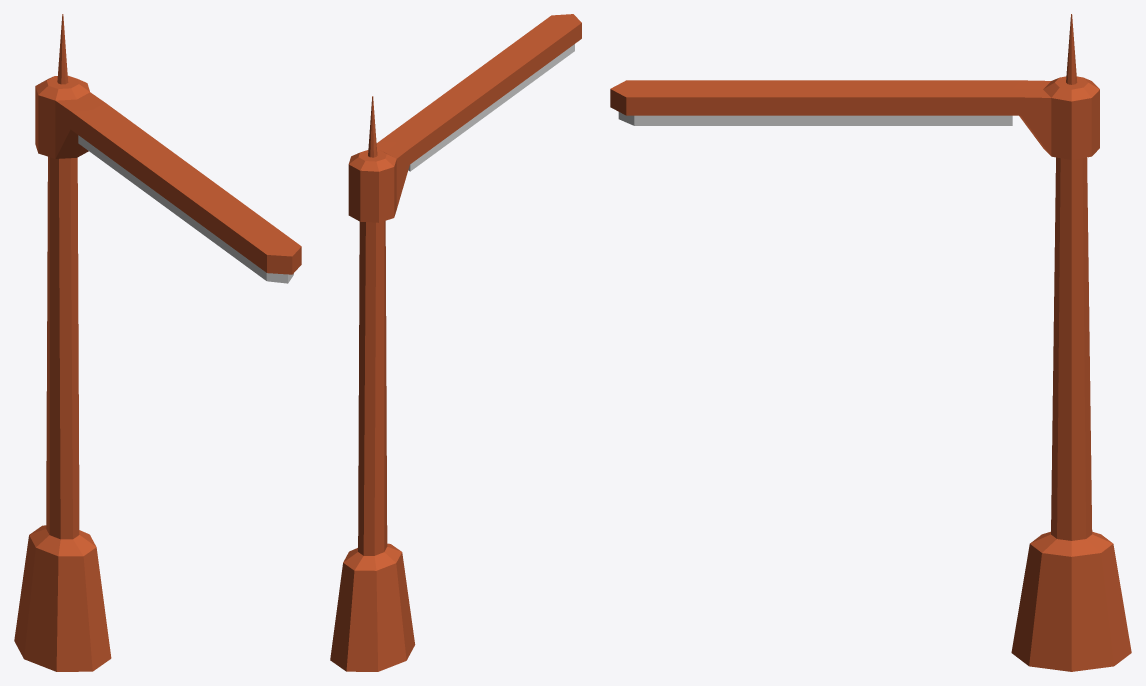
The model's file is фонарь.fbx.
3 renders of one model, left to right at view 1: azimuth 30°, elevation 25°; view 2: azimuth 150°, elevation 25°; view 3: azimuth 270°, elevation 25°, orthographic. The views are drawn at different scales.
Visible parts, largest first — view 1: фонарь; view 2: фонарь; view 3: фонарь.
Part boxes in pixels (<box>): фонарь: <box>14,14,301,671</box>; фонарь: <box>330,14,581,671</box>; фонарь: <box>610,14,1131,671</box>.
Size of the model in its own units: 1.33 by 10.39 by 7.69.
